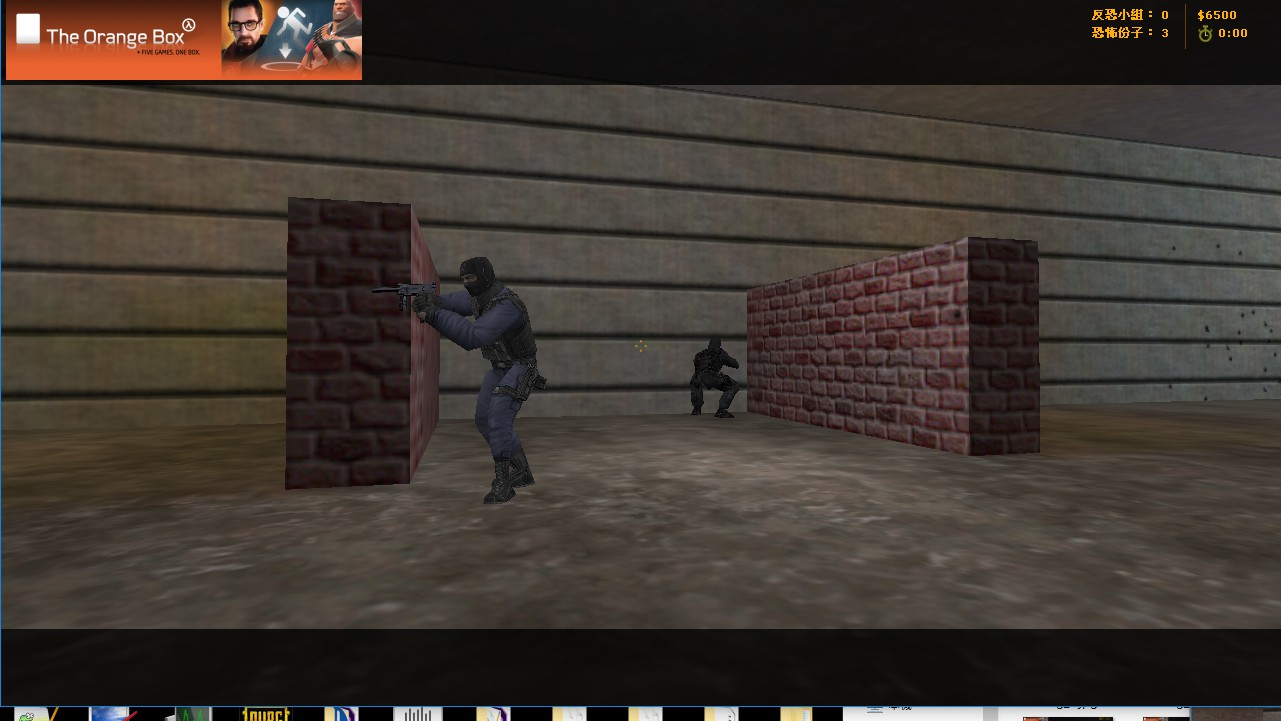person: (406, 250, 561, 516), (684, 326, 750, 427)
